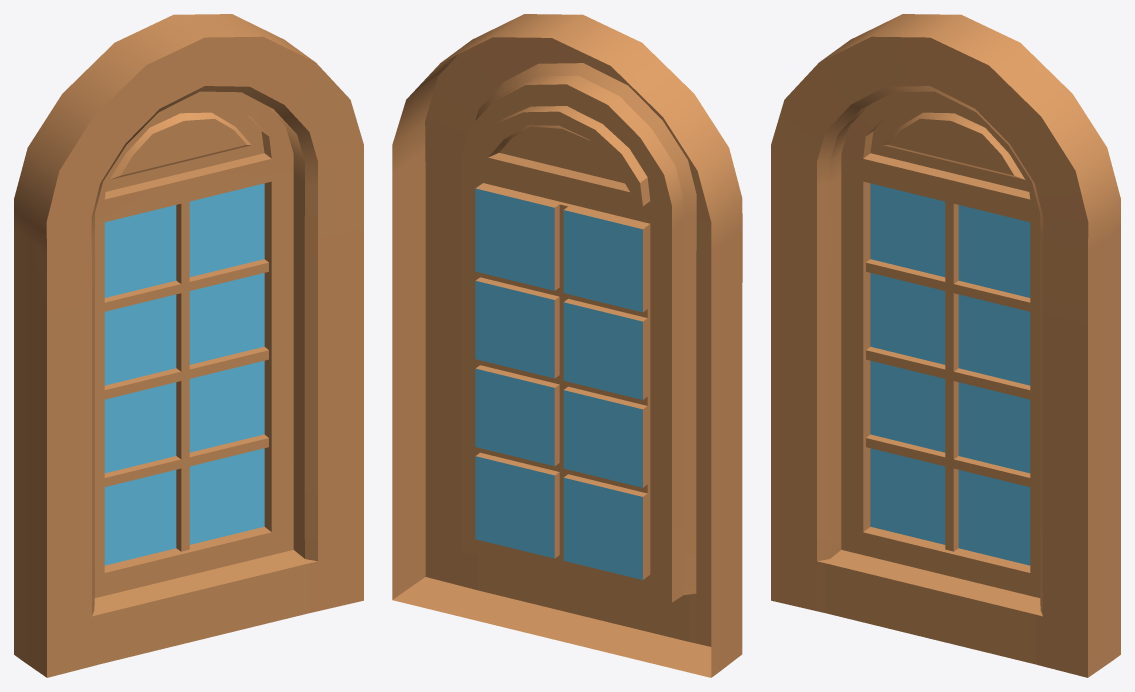
Rendered from Window8CurveCadre.fbx.
3 renders of one model, left to right at view 1: azimuth 30°, elevation 25°; view 2: azimuth 150°, elevation 25°; view 3: azimuth 330°, elevation 25°, orthographic.
Parts seen in each view (by area): view 1: Window8CurveCadre; view 2: Window8CurveCadre; view 3: Window8CurveCadre.
Part boxes in pixels (x1,y1,x2,y2): Window8CurveCadre: [14, 14, 363, 677]; Window8CurveCadre: [392, 14, 742, 677]; Window8CurveCadre: [771, 14, 1120, 677].
Bounding box in the file's own units: 1.9 × 0.3323 × 3.43.
